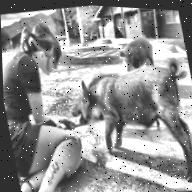boar: (62, 54, 192, 191), (109, 29, 159, 83)
